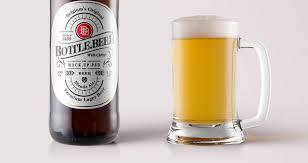Glass bottle: (33, 0, 136, 148)
